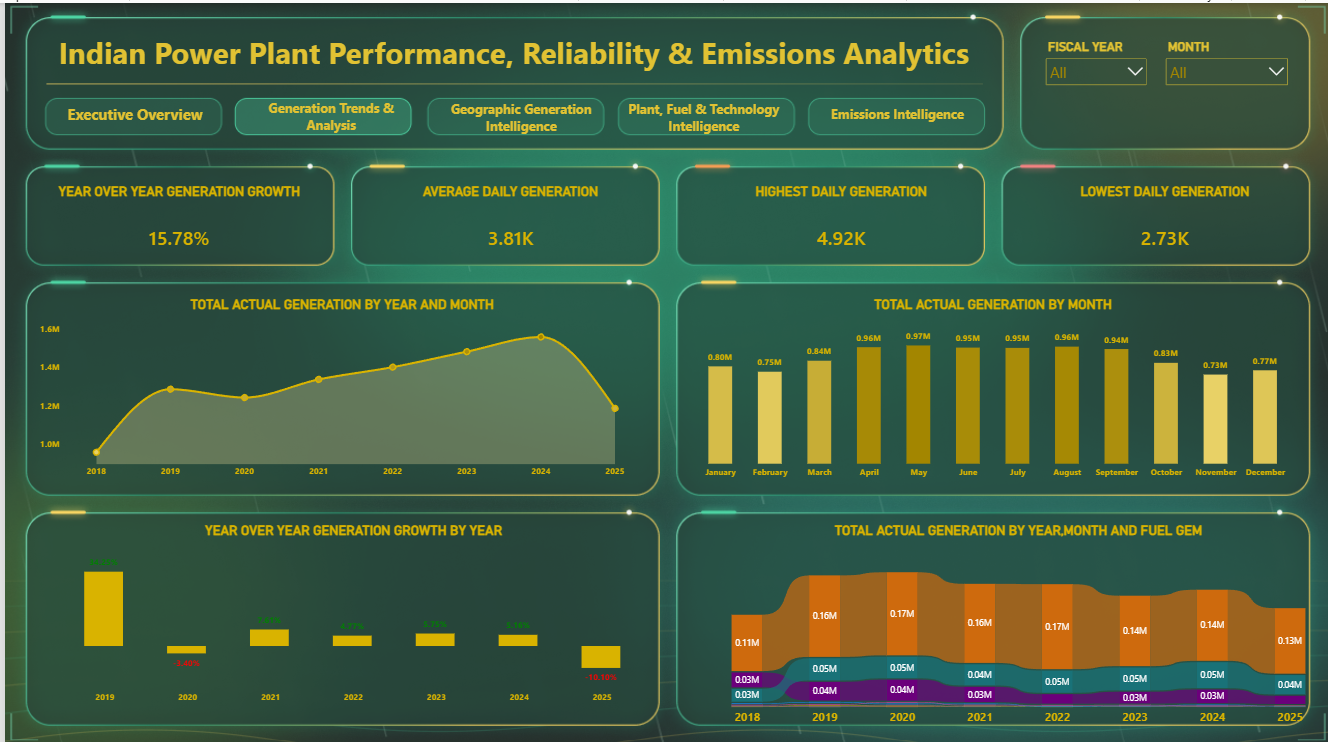

The dashboard page shown, as its layout file describes it:
{"tool":"powerbi","page":{"name":"Page 2","canvas":[1920,1080],"ordinal":1},"visuals":[{"type":"lineChart","title":"TOTAL ACTUAL GENERATION  BY YEAR AND MONTH","fields":{"Category":["Dim_Date.Date.Variation.Date Hierarchy.Year","Dim_Date.Date.Variation.Date Hierarchy.Month"],"Y":["calculation_table.Total_actual_generation"]},"box":[34.4,410.8,907.7,296.4],"z":0},{"type":"ribbonChart","title":"TOTAL ACTUAL GENERATION BY YEAR,MONTH AND FUEL GEM","fields":{"Category":["Dim_Date.Date.Variation.Date Hierarchy.Year","Dim_Date.Date.Variation.Date Hierarchy.Month"],"Series":["Dim_Fuel.fuel_gem"],"Y":["calculation_table.Total_actual_generation"]},"box":[1012.7,738.9,907.7,327.3],"z":1000},{"type":"clusteredColumnChart","title":"YEAR OVER YEAR GENERATION GROWTH BY YEAR","fields":{"Category":["Dim_Date.Date.Variation.Date Hierarchy.Year"],"Y":["calculation_table.yoy_generation_growth"]},"box":[51.5,738.9,908,296],"z":2000},{"type":"card","title":"YEAR OVER YEAR GENERATION GROWTH","fields":{"Values":["calculation_table.yoy_generation_growth"]},"box":[34.4,247.9,436.1,148.4],"z":3000},{"type":"card","title":"AVERAGE DAILY GENERATION","fields":{"Values":["calculation_table.avg_daily_generation"]},"box":[504.9,247.9,454.2,148.4],"z":4000},{"type":"card","title":"HIGHEST DAILY GENERATION","fields":{"Values":["calculation_table.highest_daily_generation"]},"box":[993.5,247.9,434.3,148.4],"z":5000},{"type":"card","title":"LOWEST DAILY GENERATION","fields":{"Values":["calculation_table.lowest_daily_generation"]},"box":[1451.3,247.9,456,148.4],"z":6000},{"type":"clusteredColumnChart","title":"TOTAL ACTUAL GENERATION BY MONTH","fields":{"Category":["Dim_Date.Month_Name"],"Y":["calculation_table.Total_actual_generation"]},"box":[973.6,410.8,913.9,296.8],"z":7000},{"type":"textbox","box":[77.8,41.6,1512.9,150.2],"z":8000,"group":"g1"},{"type":"slicer","fields":{"Values":["Dim_PlantUnitYear.fiscal_year"]},"box":[1502,52.5,155.6,150.2],"z":8000},{"type":"slicer","fields":{"Values":["Dim_Date.Date.Variation.Date Hierarchy.Month"]},"box":[1675.7,52.5,186.4,150.2],"z":9000},{"type":"pageNavigator","box":[56.1,141.1,1357.2,50.7],"z":9000,"group":"g1"},{"type":"group","id":"g1","title":"Group 1","box":[56.1,41.6,1534.6,159.3],"z":10000},{"type":"textbox","box":[77.8,146.6,220.8,39.8],"z":10000,"group":"g1"},{"type":"textbox","box":[352.9,139.3,238.9,52.5],"z":11000,"group":"g1"},{"type":"textbox","box":[637,141.1,220.8,59.7],"z":12000,"group":"g1"},{"type":"textbox","box":[901.2,141.1,220.8,54.3],"z":13000,"group":"g1"},{"type":"textbox","box":[1181.5,149.1,220.8,36.2],"z":14000,"group":"g1"}]}

Visuals, with their boxes in screenshot pixels (x1, y1, x2, y2), scaled from the page's 1920x1080 canvas onto the 1328x742 screenshot:
"TOTAL ACTUAL GENERATION  BY YEAR AND MONTH" lineChart: 24/282/652/486
"TOTAL ACTUAL GENERATION BY YEAR,MONTH AND FUEL GEM" ribbonChart: 700/508/1327/733
"YEAR OVER YEAR GENERATION GROWTH BY YEAR" clusteredColumnChart: 36/508/664/711
"YEAR OVER YEAR GENERATION GROWTH" card: 24/170/325/272
"AVERAGE DAILY GENERATION" card: 349/170/663/272
"HIGHEST DAILY GENERATION" card: 687/170/988/272
"LOWEST DAILY GENERATION" card: 1004/170/1319/272
"TOTAL ACTUAL GENERATION BY MONTH" clusteredColumnChart: 673/282/1306/486
textbox: 54/29/1100/132
slicer - Dim_PlantUnitYear.fiscal_year: 1039/36/1147/139
slicer - Dim_Date.Date.Variation.Date Hierarchy.Month: 1159/36/1288/139
pageNavigator: 39/97/978/132
"Group 1" group: 39/29/1100/138
textbox: 54/101/207/128
textbox: 244/96/409/132
textbox: 441/97/593/138
textbox: 623/97/776/134
textbox: 817/102/970/127
